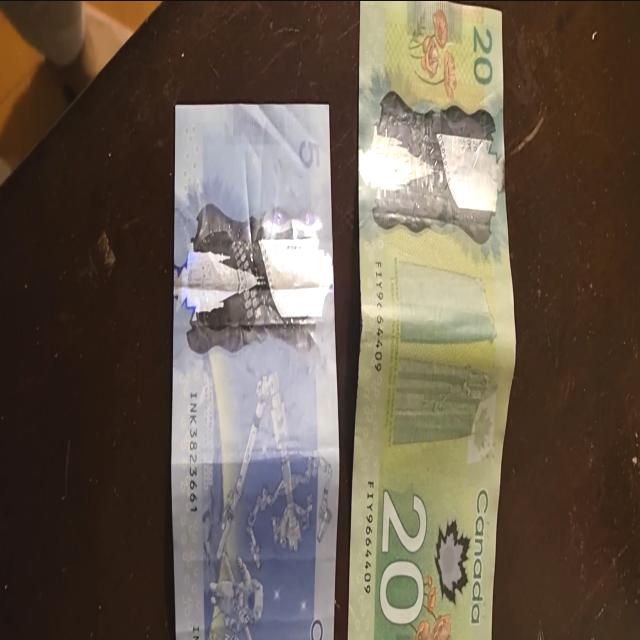20 cad: (350, 7, 502, 640)
5 cad: (174, 102, 332, 640)
